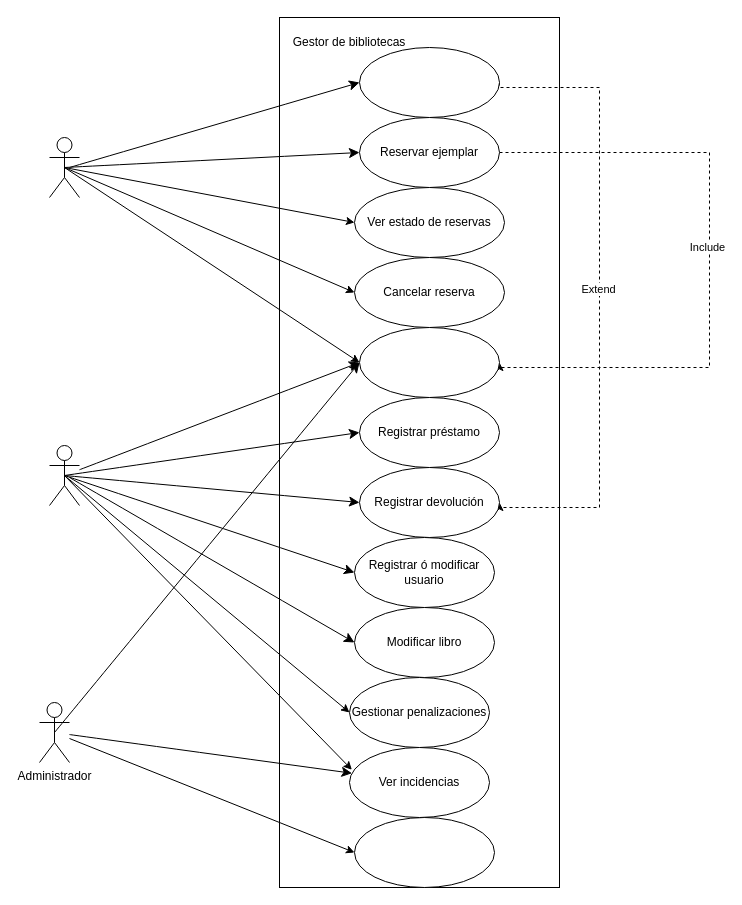
This 742x905 diagram has some shape labels left out. The centre of each missing label's shape, as x and y in pixels:
"Bibliotecario" goes at point (64, 475).
"Consultar catálogo" goes at point (429, 362).
"Generar informes" goes at point (424, 852).
"Socio" goes at point (64, 167).
"Ver histórico de préstamos" goes at point (429, 82).
